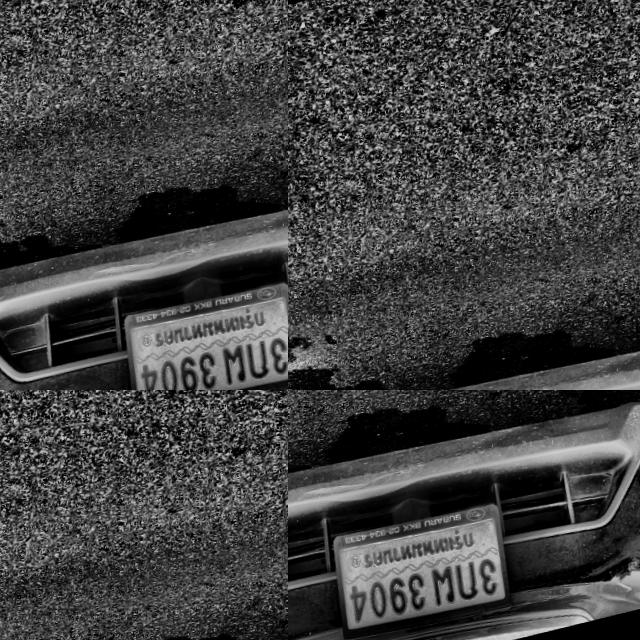license-plate: (70, 132, 288, 390), (332, 500, 524, 640)
